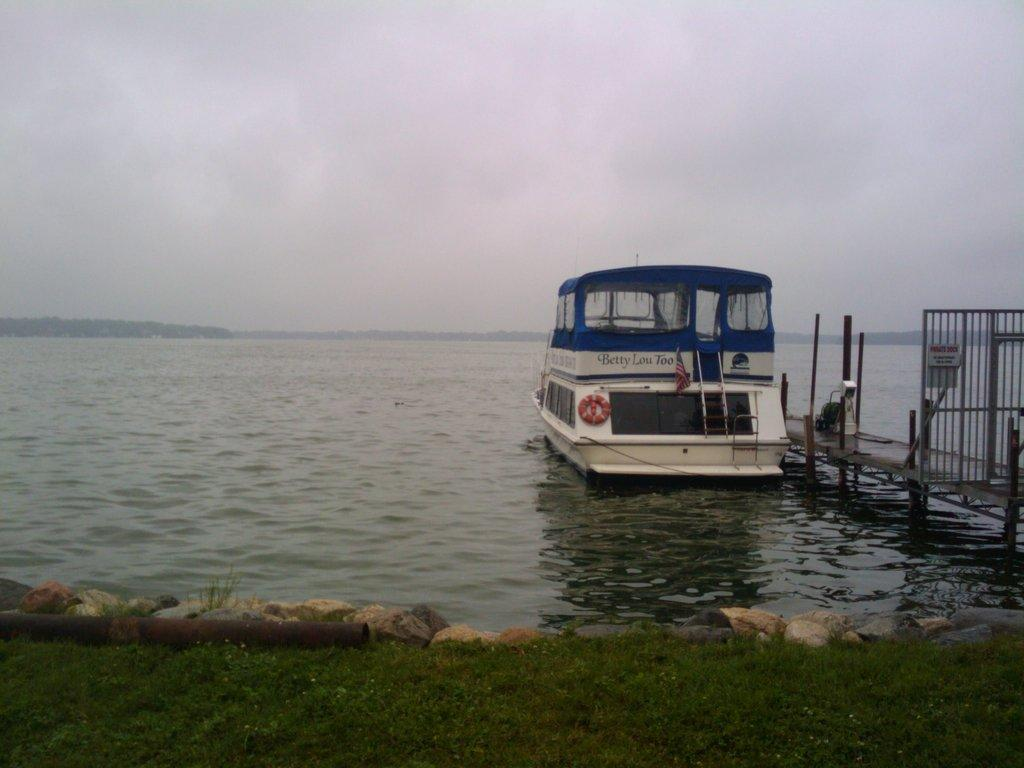PassengerShip: (536, 252, 848, 486)
